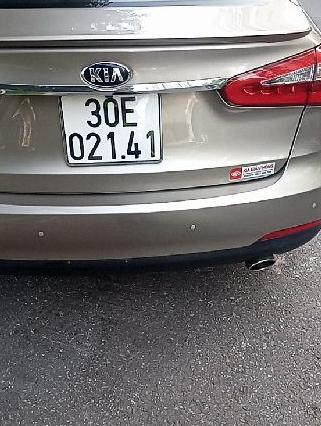Plate-iWeP: (67, 93, 158, 164)
